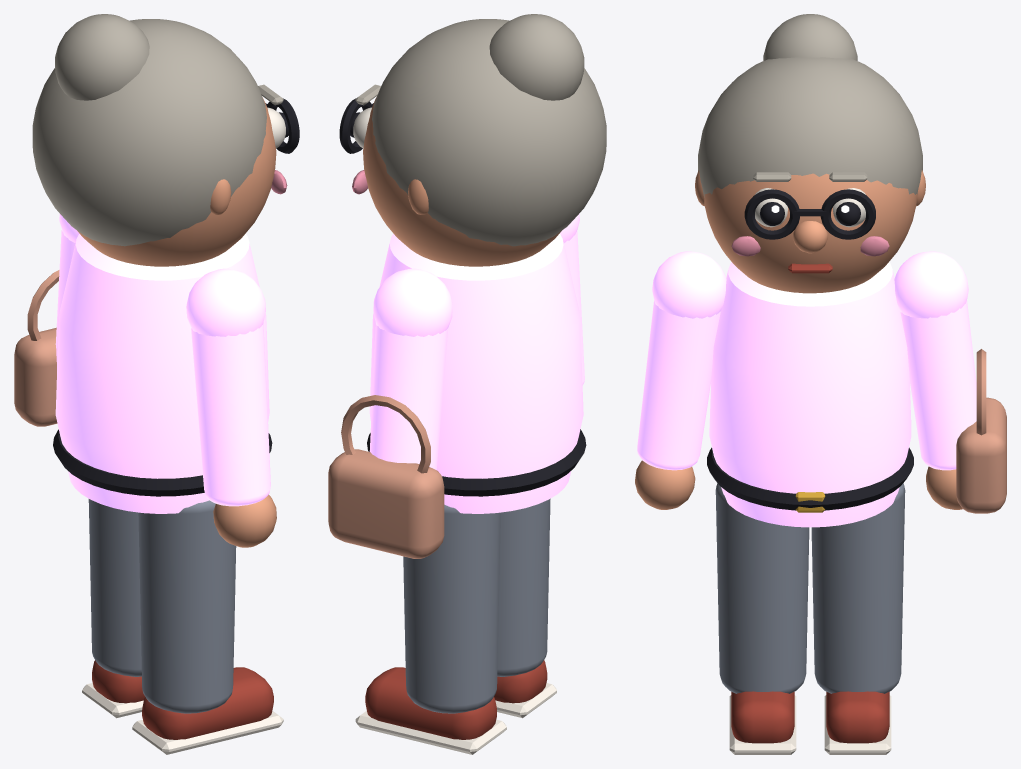
The model's file is ped_granny.glb.
3 views of the same model, side by side, from view 1: azimuth 30°, elevation 25°; view 2: azimuth 150°, elevation 25°; view 3: azimuth 270°, elevation 25° (orthographic). The views are drawn at different scales.
Visible parts, largest first — view 1: ped_granny; view 2: ped_granny; view 3: ped_granny.
Boxes of the visible parts, x1,y1,x2,y2 form: ped_granny: [14, 14, 299, 754]; ped_granny: [328, 14, 606, 754]; ped_granny: [635, 14, 1006, 754].
Size of the model in its own units: 0.3893 by 1.18 by 0.5868.
1 material, 1 textured.
